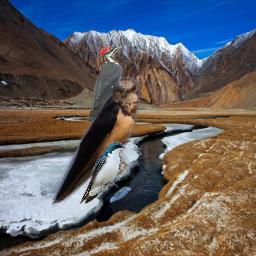Swallow: (52, 77, 140, 208), (79, 142, 125, 205)
Woodpecker: (85, 42, 130, 120)
